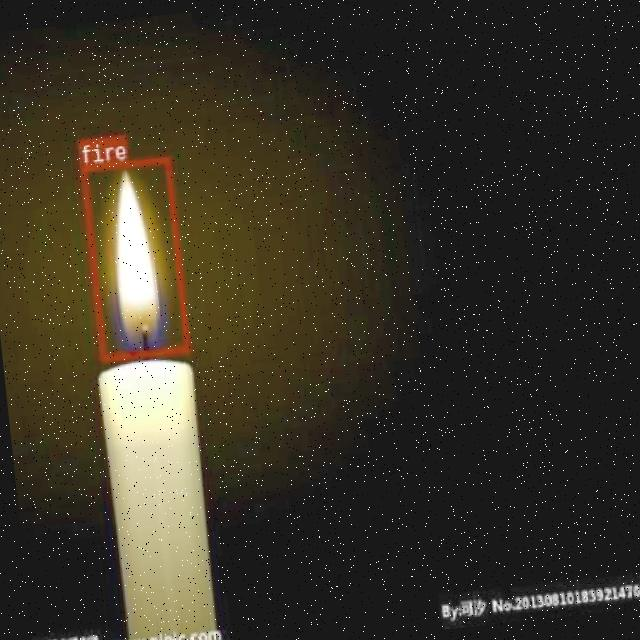fire: (78, 153, 190, 360)
